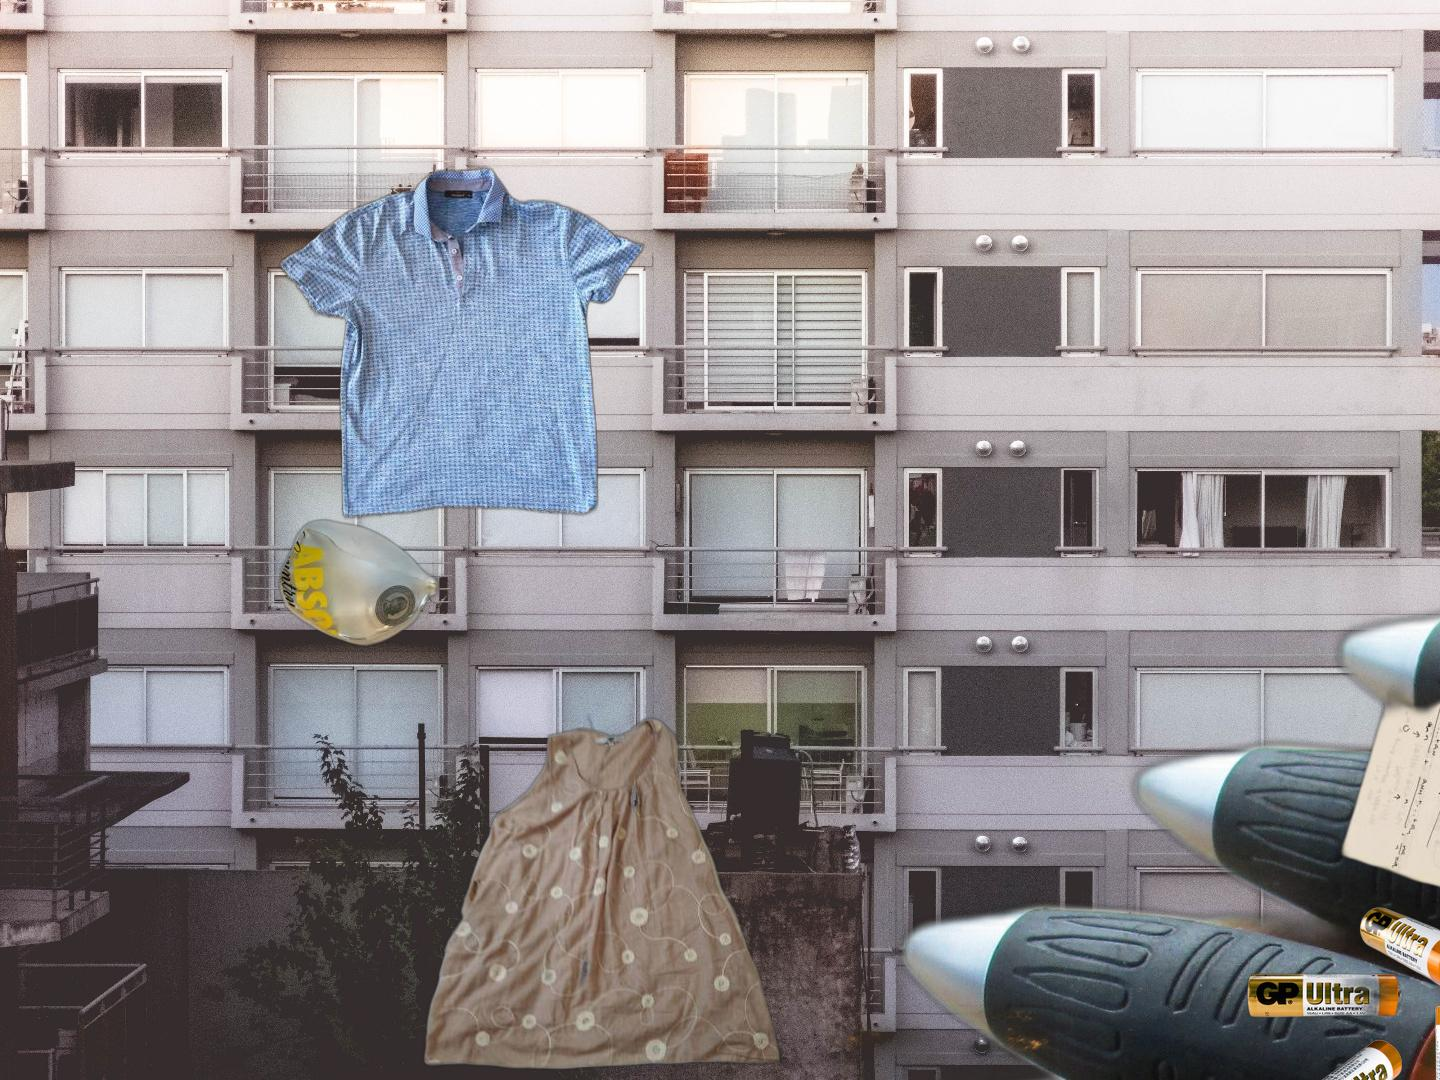battery: (1246, 906, 1440, 1080)
clothes: (276, 163, 647, 522), (420, 710, 783, 1073)
glass: (276, 516, 443, 650)
paper: (1335, 677, 1440, 944)
penholder: (616, 590, 1440, 1080)
trashbox-cardboard: (695, 1005, 1054, 1080)
